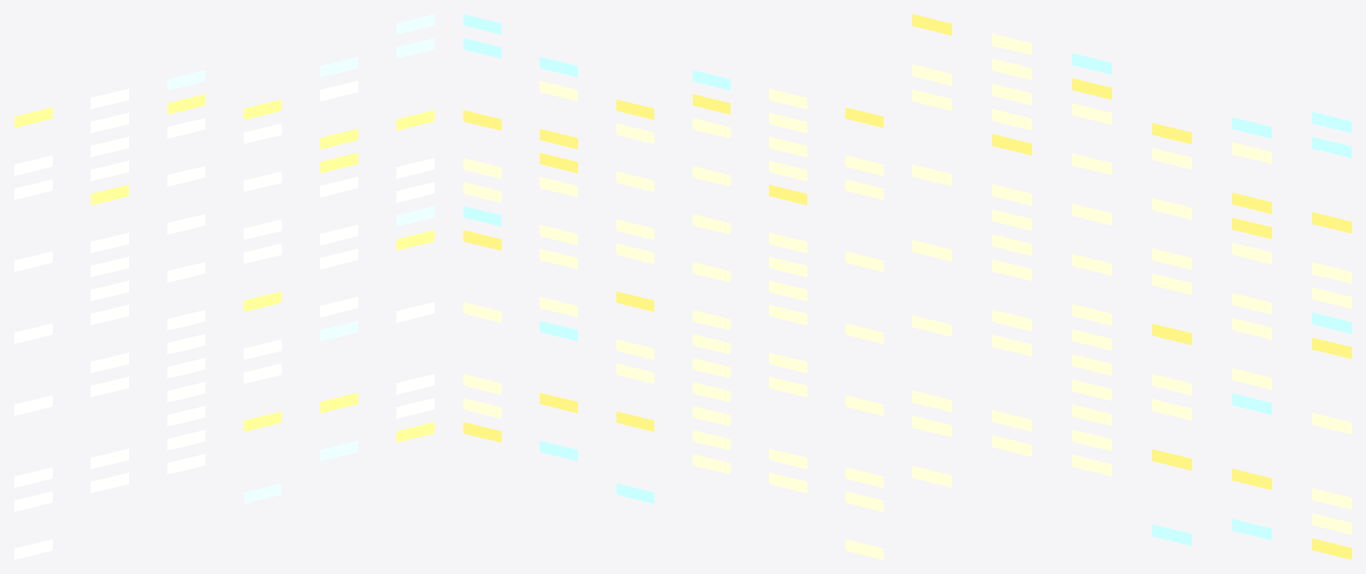
File: window-lights-20.glb
3 views of the same model, side by side, from view 1: azimuth 30°, elevation 25°; view 2: azimuth 150°, elevation 25°; view 3: azimuth 330°, elevation 25° (orthographic). The views are drawn at different scales.
Visible parts, largest first — view 1: window warm, window amber, window tv; view 2: window warm, window amber, window tv; view 3: window warm, window amber, window tv.
Boxes of the visible parts, <box> form: window warm: <box>14,80,434,559</box>; window amber: <box>14,94,434,442</box>; window tv: <box>167,14,434,503</box>; window warm: <box>463,80,883,559</box>; window amber: <box>463,94,883,442</box>; window tv: <box>463,14,730,503</box>; window warm: <box>912,33,1351,534</box>; window amber: <box>912,14,1351,559</box>; window tv: <box>1072,53,1351,545</box>.
Size of the model in its own units: 0.9167 by 0.924 by 0.
